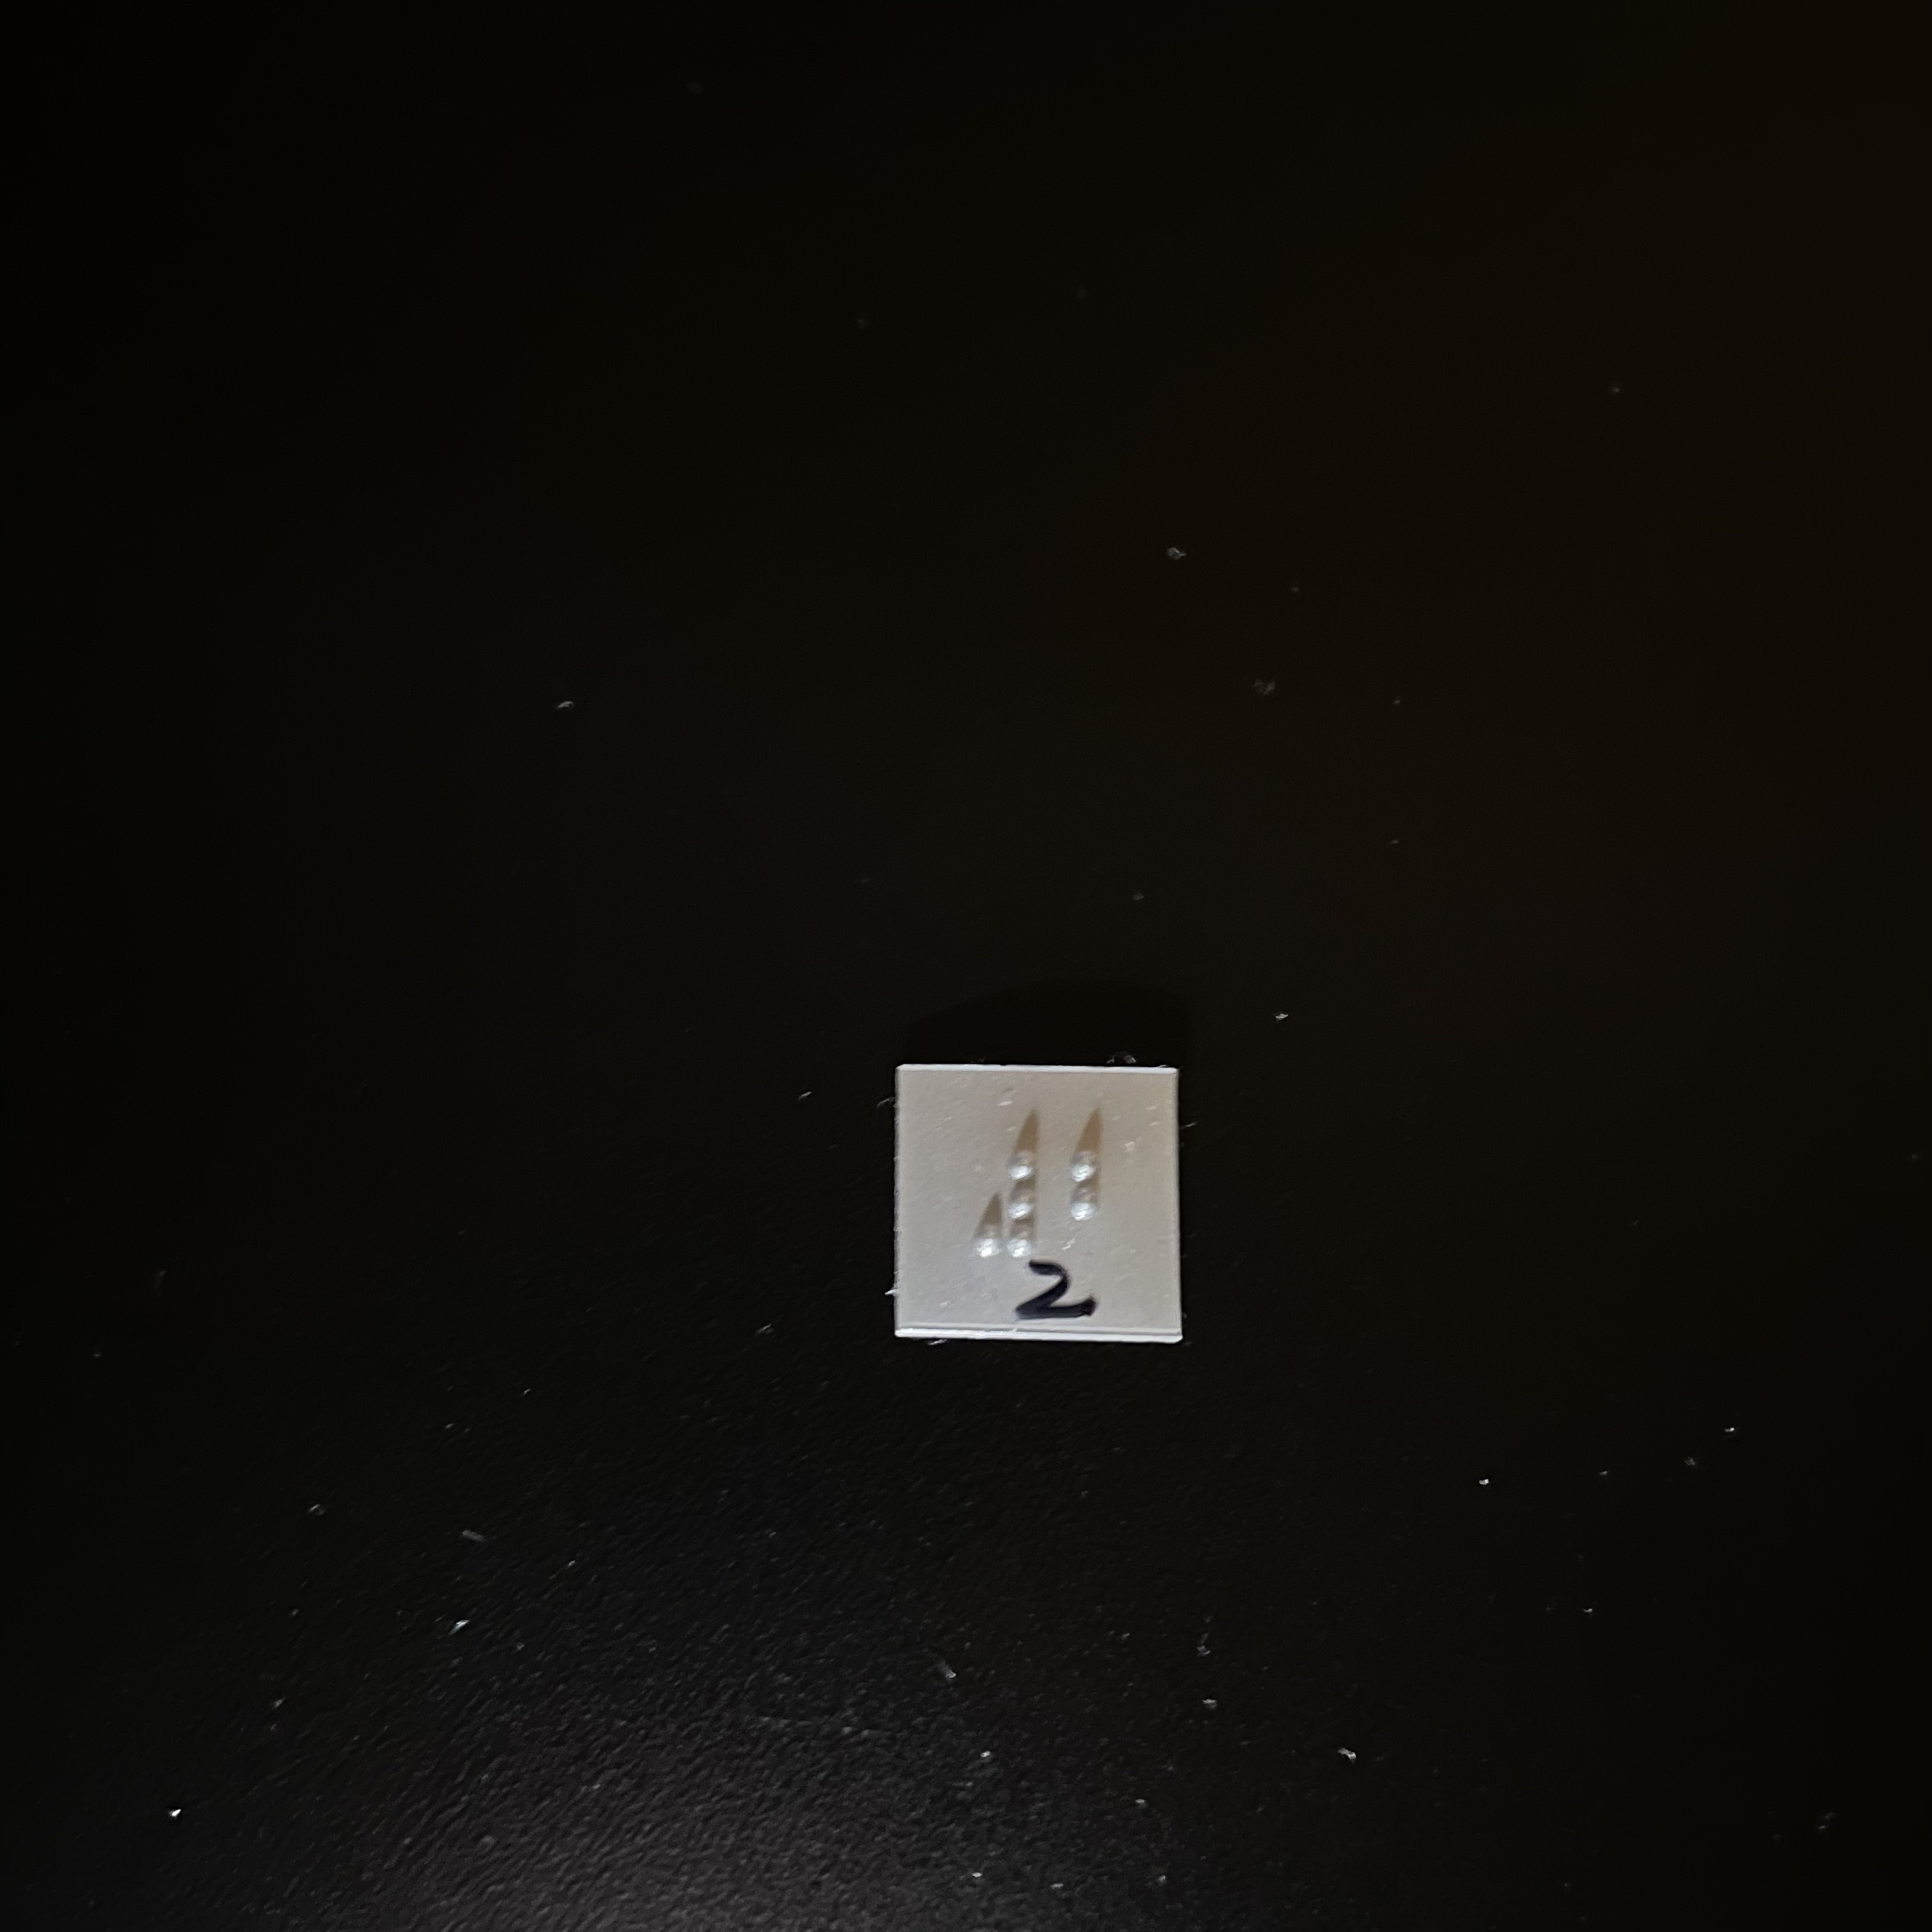#: (972, 1126, 1047, 1266)
b: (1062, 1126, 1137, 1269)
